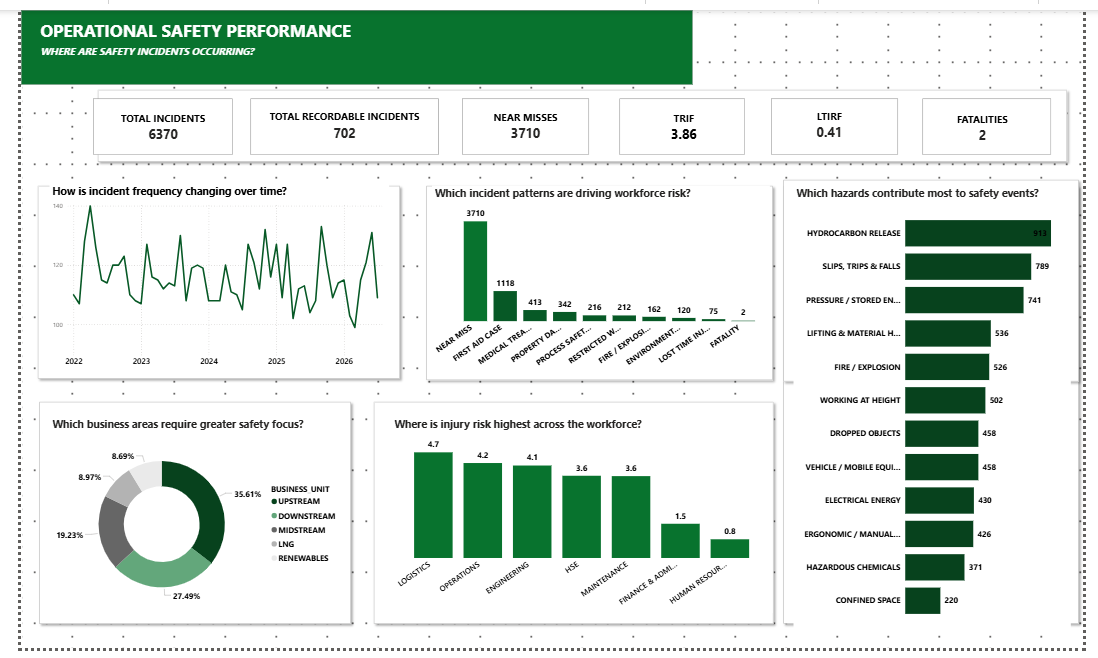

Layout of this report page (visuals, bound fields, positions):
{"tool":"powerbi","page":{"name":"OPERATIONAL SAFETY PERFORMANCE","canvas":[2000,1200],"ordinal":1},"visuals":[{"type":"shape","box":[135.8,141.7,1842.5,153.5],"z":0},{"type":"shape","box":[753,321.9,670.3,383.9],"z":1000},{"type":"shape","box":[0,0,1264.4,140.8],"z":2000},{"type":"shape","box":[24.8,728.9,604.6,436.2],"z":3000},{"type":"shape","box":[23.6,321.9,699.8,380.9],"z":4000},{"type":"shape","box":[1424.6,323,574.2,842],"z":5000},{"type":"shape","box":[654.3,728.9,770.3,436.2],"z":6000},{"type":"shape","box":[1697.8,165.4,242.1,106.3],"z":7000},{"type":"shape","box":[1411.4,165.4,239.2,106.3],"z":8000},{"type":"shape","box":[431.1,165.4,354.3,106.3],"z":9000},{"type":"shape","box":[135.8,165.4,262.8,106.3],"z":10000},{"type":"shape","box":[829.7,165.4,239.2,106.3],"z":11000},{"type":"shape","box":[1128,165.4,236.2,106.3],"z":12000},{"type":"cardVisual","fields":{"Data":["CountNonNull(FACT_HSE_INCIDENT.INCIDENT_ID)"]},"box":[121.1,162.4,292.3,112.2],"z":13000},{"type":"cardVisual","fields":{"Data":["DIM_ASSET.TOTAL RECORDABLE INCIDENTS"]},"box":[431.1,156.5,354.3,124],"z":14000},{"type":"cardVisual","fields":{"Data":["DIM_ASSET.TRIF"]},"box":[1148.6,144.7,197.8,150.6],"z":15000},{"type":"cardVisual","fields":{"Data":["DIM_ASSET.LTIRF"]},"box":[1423.2,141.7,197.8,150.6],"z":16000},{"type":"cardVisual","fields":{"Data":["Sum(FACT_HSE_INCIDENT.NEAR_MISS_FLAG)"]},"box":[853.4,159.5,194.9,118.1],"z":17000},{"type":"shape","box":[1424.6,309.2,574.2,397.6],"z":17500},{"type":"cardVisual","fields":{"Data":["Sum(FACT_HSE_INCIDENT.FATALITY_FLAG)"]},"box":[1715.6,165.4,186,109.3],"z":19000},{"type":"lineChart","title":"How is incident frequency changing over time?","fields":{"Category":["DIM_DATE.DATE.Variation.Date Hierarchy.Year","DIM_DATE.DATE.Variation.Date Hierarchy.Month"],"Y":["CountNonNull(FACT_HSE_INCIDENT.INCIDENT_ID)"]},"box":[54,327,639,354],"z":20000},{"type":"donutChart","title":"Which business areas require greater safety focus?","fields":{"Category":["DIM_BUSINESSUNIT.BUSINESS_UNIT"],"Y":["DIM_ASSET.TOTAL RECORDABLE INCIDENTS"]},"box":[52.5,764.7,554.9,378.2],"z":21000},{"type":"clusteredBarChart","title":"Which hazards contribute most to safety events?","fields":{"Y":["CountNonNull(FACT_HSE_INCIDENT.INCIDENT_ID)"],"Category":["DIM_HAZARD.HAZARD_NAME"]},"box":[1455,330,522,837],"z":22000},{"type":"clusteredColumnChart","title":"Which incident patterns are driving workforce risk?","fields":{"Category":["DIM_INCIDENTTYPE.INCIDENT_TYPE"],"Y":["CountNonNull(FACT_HSE_INCIDENT.INCIDENT_ID)"]},"box":[774,330,636,354],"z":23000},{"type":"clusteredColumnChart","title":"Where is injury risk highest across the workforce?","fields":{"Category":["DIM_DEPARTMENT.DEPARTMENT"],"Y":["DIM_ASSET.TRIF"]},"box":[696,765,717,369],"z":24000},{"type":"textbox","title":"OPERATIONAL SAFETY PERFORMANCE","box":[30.4,16.6,693,102.1],"z":25000}]}

Visuals, with their boxes in screenshot pixels (x1, y1, x2, y2), scaled from the page's 2000x1200 canvas onto the 1098x658 screenshot:
shape: locate(75, 78, 1086, 162)
shape: locate(413, 177, 781, 387)
shape: locate(0, 0, 694, 77)
shape: locate(14, 400, 346, 639)
shape: locate(13, 177, 397, 385)
shape: locate(782, 177, 1097, 639)
shape: locate(359, 400, 782, 639)
shape: locate(932, 91, 1065, 149)
shape: locate(775, 91, 906, 149)
shape: locate(237, 91, 431, 149)
shape: locate(75, 91, 219, 149)
shape: locate(456, 91, 587, 149)
shape: locate(619, 91, 749, 149)
cardVisual - CountNonNull(FACT_HSE_INCIDENT.INCIDENT_ID): locate(66, 89, 227, 151)
cardVisual - DIM_ASSET.TOTAL RECORDABLE INCIDENTS: locate(237, 86, 431, 154)
cardVisual - DIM_ASSET.TRIF: locate(631, 79, 739, 162)
cardVisual - DIM_ASSET.LTIRF: locate(781, 78, 890, 160)
cardVisual - Sum(FACT_HSE_INCIDENT.NEAR_MISS_FLAG): locate(469, 87, 576, 152)
shape: locate(782, 170, 1097, 388)
cardVisual - Sum(FACT_HSE_INCIDENT.FATALITY_FLAG): locate(942, 91, 1044, 151)
"How is incident frequency changing over time?" lineChart: locate(30, 179, 380, 373)
"Which business areas require greater safety focus?" donutChart: locate(29, 419, 333, 627)
"Which hazards contribute most to safety events?" clusteredBarChart: locate(799, 181, 1085, 640)
"Which incident patterns are driving workforce risk?" clusteredColumnChart: locate(425, 181, 774, 375)
"Where is injury risk highest across the workforce?" clusteredColumnChart: locate(382, 419, 776, 622)
"OPERATIONAL SAFETY PERFORMANCE" textbox: locate(17, 9, 397, 65)
